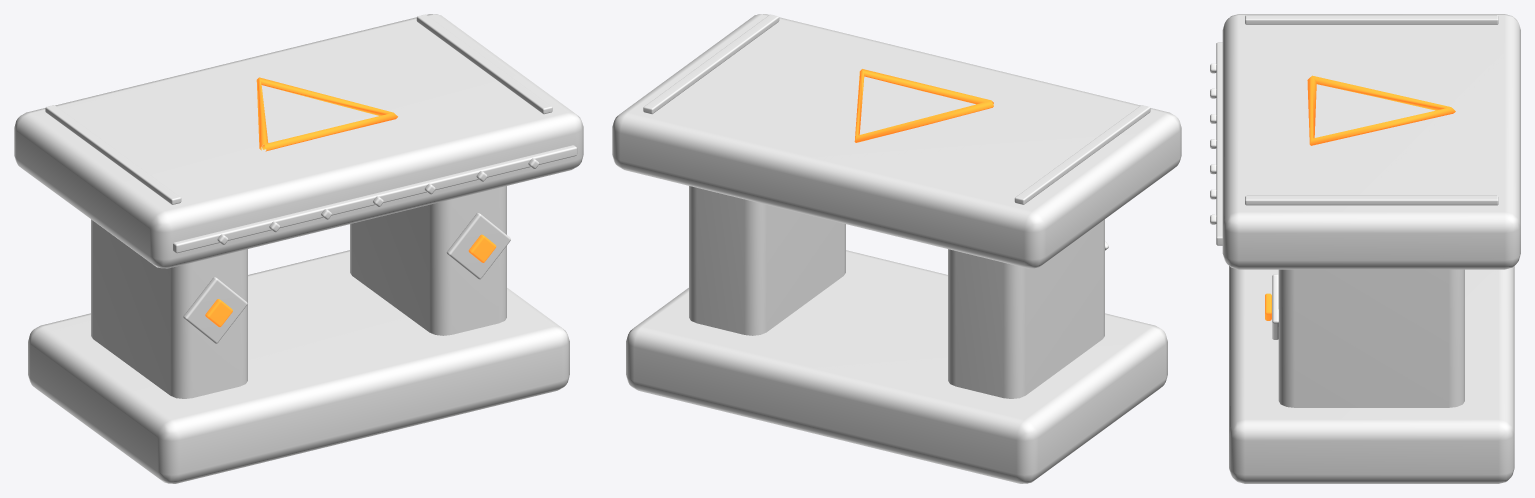
The model's file is AS_14_Altar.glb.
3 renders of one model, left to right at view 1: azimuth 30°, elevation 25°; view 2: azimuth 150°, elevation 25°; view 3: azimuth 270°, elevation 25°, orthographic.
Visible parts, largest first — view 1: AS_14_Altar__table, AS_14_Altar__base, AS_14_Altar__leg.001, AS_14_Altar__leg, AS_14_Altar__table fascia, AS_14_Altar__sigil, AS_14_Altar__altar relief.001, AS_14_Altar__altar relief, AS_14_Altar__trim.001, AS_14_Altar__trim; view 2: AS_14_Altar__table, AS_14_Altar__base, AS_14_Altar__leg.001, AS_14_Altar__leg, AS_14_Altar__sigil, AS_14_Altar__trim.001, AS_14_Altar__trim; view 3: AS_14_Altar__table, AS_14_Altar__base, AS_14_Altar__leg, AS_14_Altar__trim, AS_14_Altar__sigil, AS_14_Altar__trim.001, AS_14_Altar__table fascia, AS_14_Altar__altar relief.
Part boxes in pixels (box(x1,y1,x2,y2)): AS_14_Altar__table: box(14, 14, 583, 268); AS_14_Altar__base: box(28, 250, 569, 483); AS_14_Altar__leg.001: box(91, 219, 247, 398); AS_14_Altar__leg: box(350, 186, 506, 335); AS_14_Altar__table fascia: box(173, 145, 577, 253); AS_14_Altar__sigil: box(256, 77, 397, 151); AS_14_Altar__altar relief.001: box(183, 277, 247, 343); AS_14_Altar__altar relief: box(446, 213, 510, 279); AS_14_Altar__trim.001: box(45, 105, 181, 204); AS_14_Altar__trim: box(416, 14, 552, 114); AS_14_Altar__table: box(612, 14, 1181, 268); AS_14_Altar__base: box(626, 250, 1167, 483); AS_14_Altar__leg.001: box(948, 219, 1104, 398); AS_14_Altar__leg: box(689, 186, 845, 335); AS_14_Altar__sigil: box(854, 69, 993, 142); AS_14_Altar__trim.001: box(1014, 105, 1150, 204); AS_14_Altar__trim: box(643, 14, 779, 114); AS_14_Altar__table: box(1222, 14, 1520, 269); AS_14_Altar__base: box(1229, 266, 1514, 483); AS_14_Altar__leg: box(1278, 269, 1464, 407); AS_14_Altar__trim: box(1245, 195, 1498, 205); AS_14_Altar__sigil: box(1307, 75, 1455, 145); AS_14_Altar__trim.001: box(1245, 15, 1498, 24); AS_14_Altar__table fascia: box(1216, 42, 1222, 245); AS_14_Altar__altar relief: box(1272, 274, 1278, 339).
Bounding box in the file's own units: 2 × 1.25 × 1.25.
